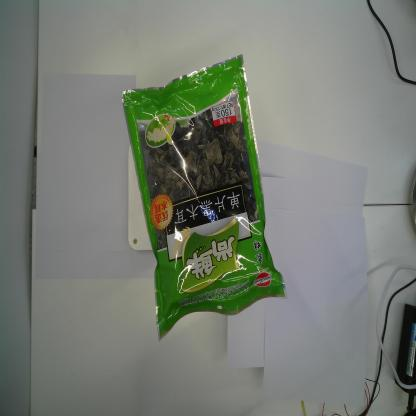Dried Food: (121, 53, 289, 342)
